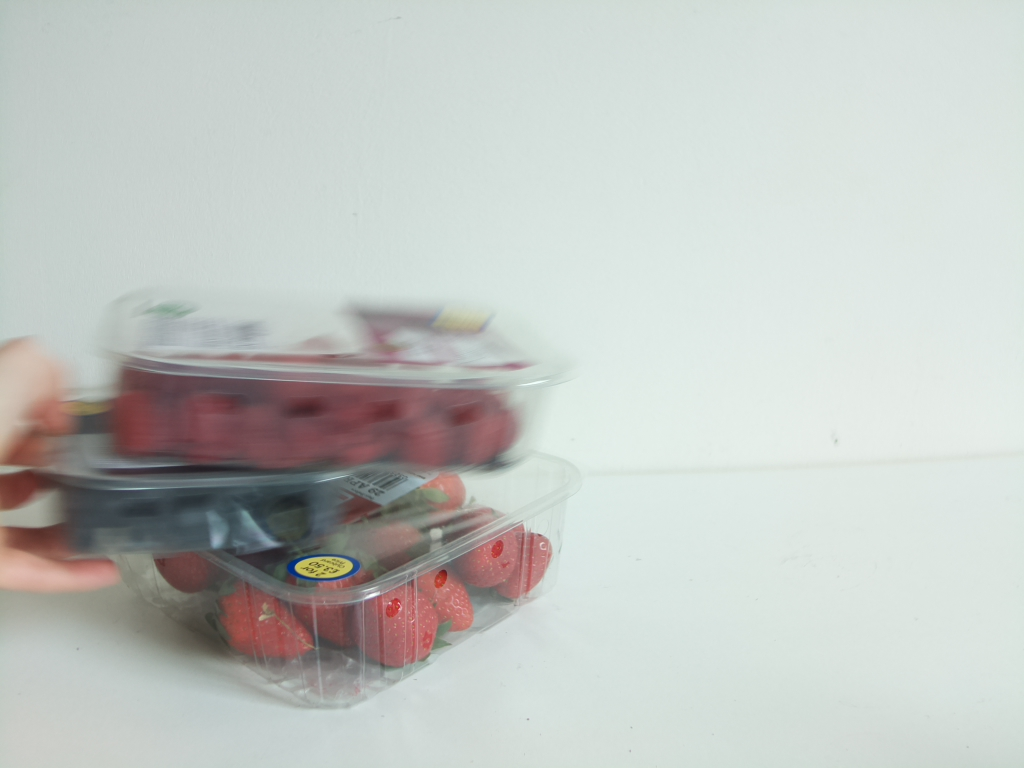soft-fruit: (103, 447, 589, 726), (96, 284, 580, 473), (31, 377, 359, 556)
